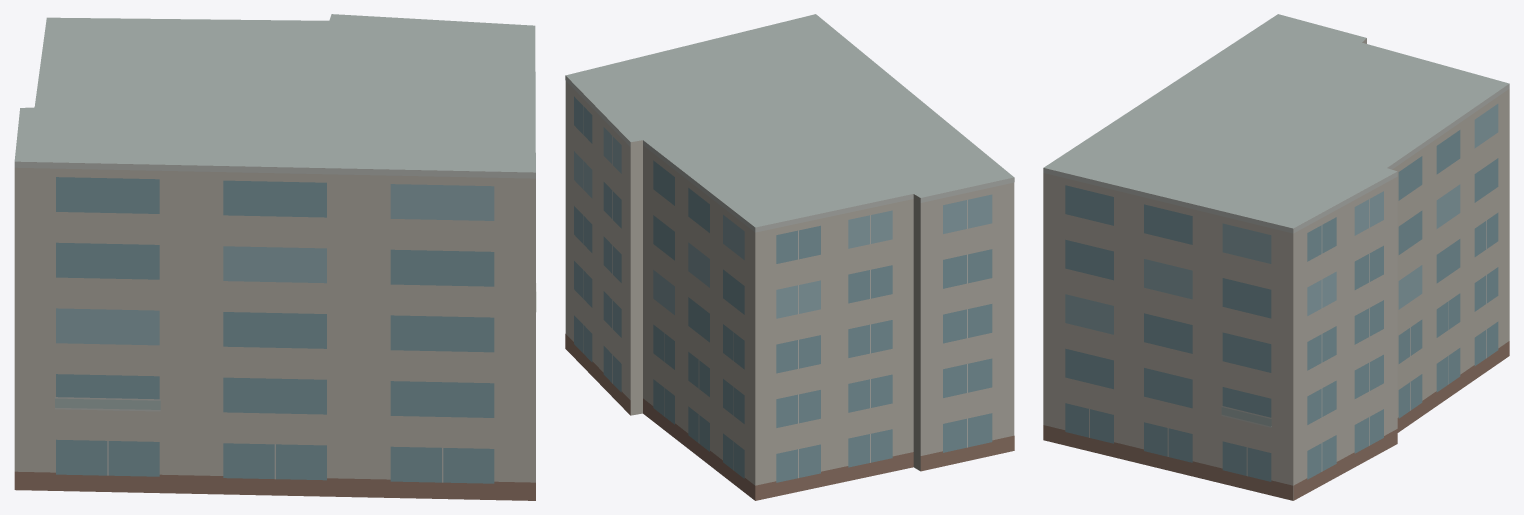
The model's file is survey-upis-32507696.glb.
3 views of the same model, side by side, from view 1: azimuth 30°, elevation 25°; view 2: azimuth 150°, elevation 25°; view 3: azimuth 270°, elevation 25° (orthographic). The views are drawn at different scales.
Parts seen in each view (by area): view 1: survey-upis-32507696.tmp; view 2: survey-upis-32507696.tmp; view 3: survey-upis-32507696.tmp.
Part boxes in pixels (x1,y1,x2,y2): survey-upis-32507696.tmp: (14, 14, 536, 500); survey-upis-32507696.tmp: (565, 14, 1014, 500); survey-upis-32507696.tmp: (1043, 14, 1509, 500).
Bounding box in the file's own units: 22.22 × 13.15 × 20.4.
